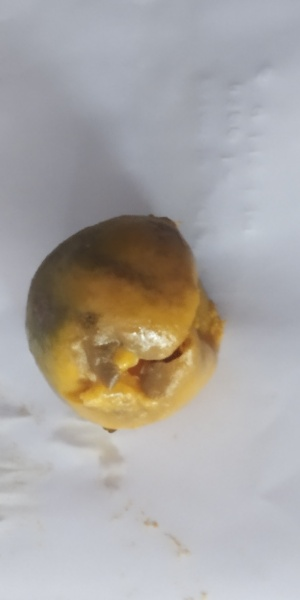BAD: (23, 217, 219, 427)
